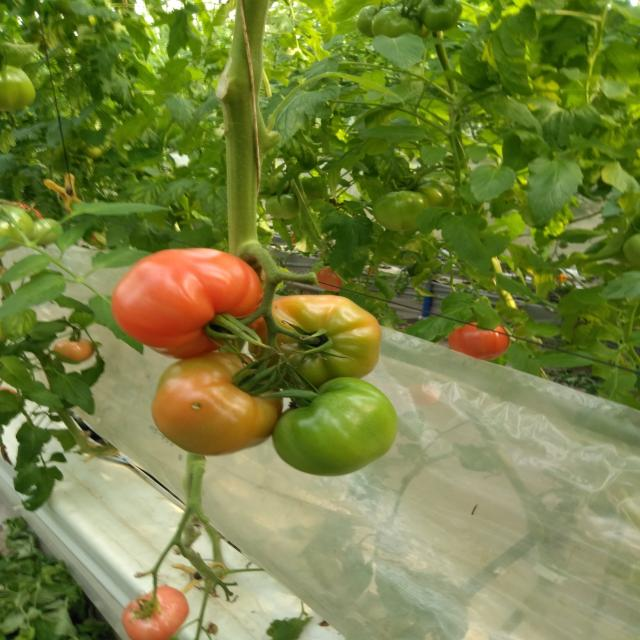n-half-riped: (151, 352, 284, 457), (248, 294, 383, 394), (121, 586, 191, 640), (52, 336, 95, 365), (316, 266, 353, 291)
n-riped: (111, 247, 268, 360), (448, 322, 510, 361)
n-unriped: (272, 376, 399, 477), (372, 191, 430, 231), (0, 64, 36, 110), (0, 205, 35, 251), (410, 176, 454, 207), (372, 13, 419, 41), (23, 218, 64, 246), (265, 193, 299, 220), (420, 13, 462, 31), (355, 13, 378, 38)
